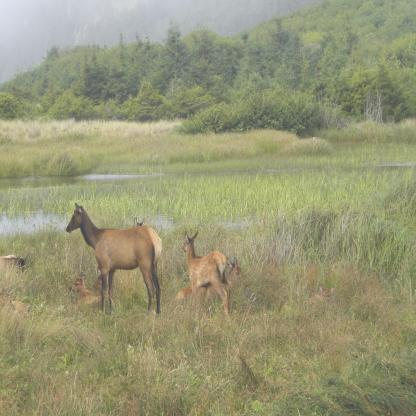Deer: (66, 200, 162, 316), (180, 230, 233, 320)
